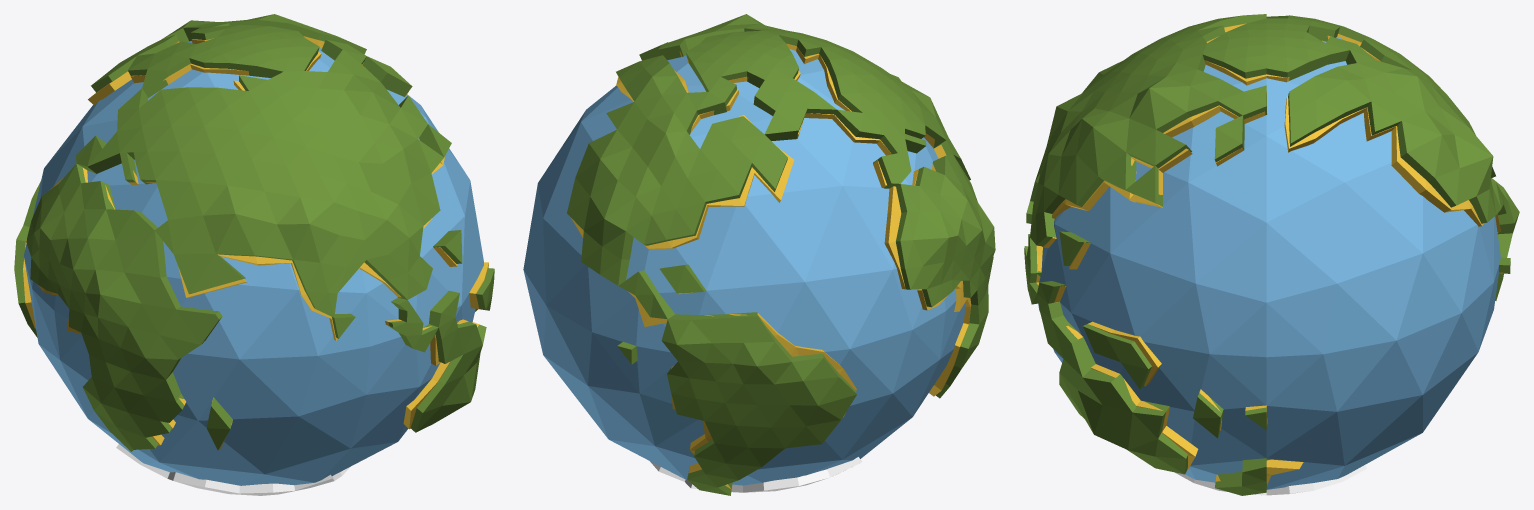
3 views of the same model, side by side, from view 1: azimuth 30°, elevation 25°; view 2: azimuth 150°, elevation 25°; view 3: azimuth 270°, elevation 25° (orthographic). The views are drawn at different scales.
Visible parts, largest first — view 1: 1227 Earth; view 2: 1227 Earth; view 3: 1227 Earth.
Boxes of the visible parts, x1=… form: 1227 Earth: x1=14, y1=14, x2=494, y2=495; 1227 Earth: x1=523, y1=14, x2=995, y2=495; 1227 Earth: x1=1024, y1=14, x2=1519, y2=495.
Size of the model in its own units: 52.94 by 52.98 by 54.43.
1 material, 1 textured.
